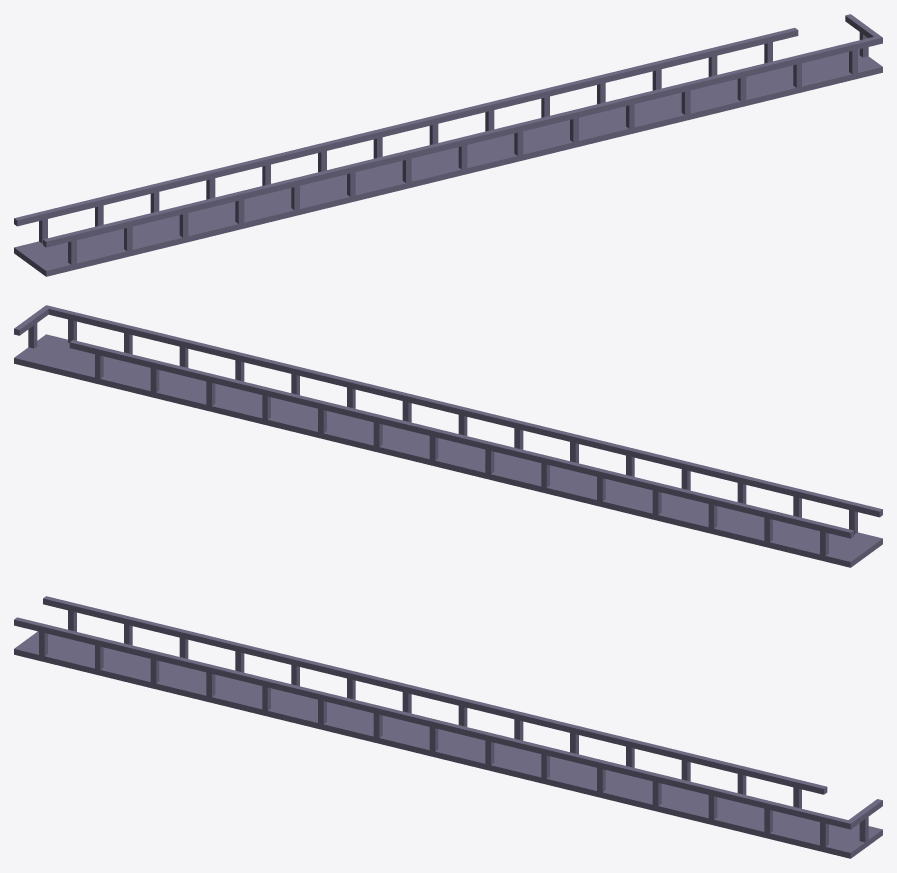
File: staircase flat.fbx
3 views of the same model, one above another, from view 1: azimuth 30°, elevation 25°; view 2: azimuth 150°, elevation 25°; view 3: azimuth 330°, elevation 25° (orthographic).
Parts seen in each view (by area): view 1: Staircase, Cube; view 2: Staircase, Cube; view 3: Staircase, Cube.
Part boxes in pixels (x1,y1,x2,y2): Staircase: (14, 28, 827, 276); Cube: (804, 14, 882, 86); Staircase: (69, 319, 882, 567); Cube: (14, 305, 101, 377); Staircase: (14, 596, 827, 844); Cube: (795, 799, 882, 858).
Size of the model in its own units: 200 by 3000 by 120.
